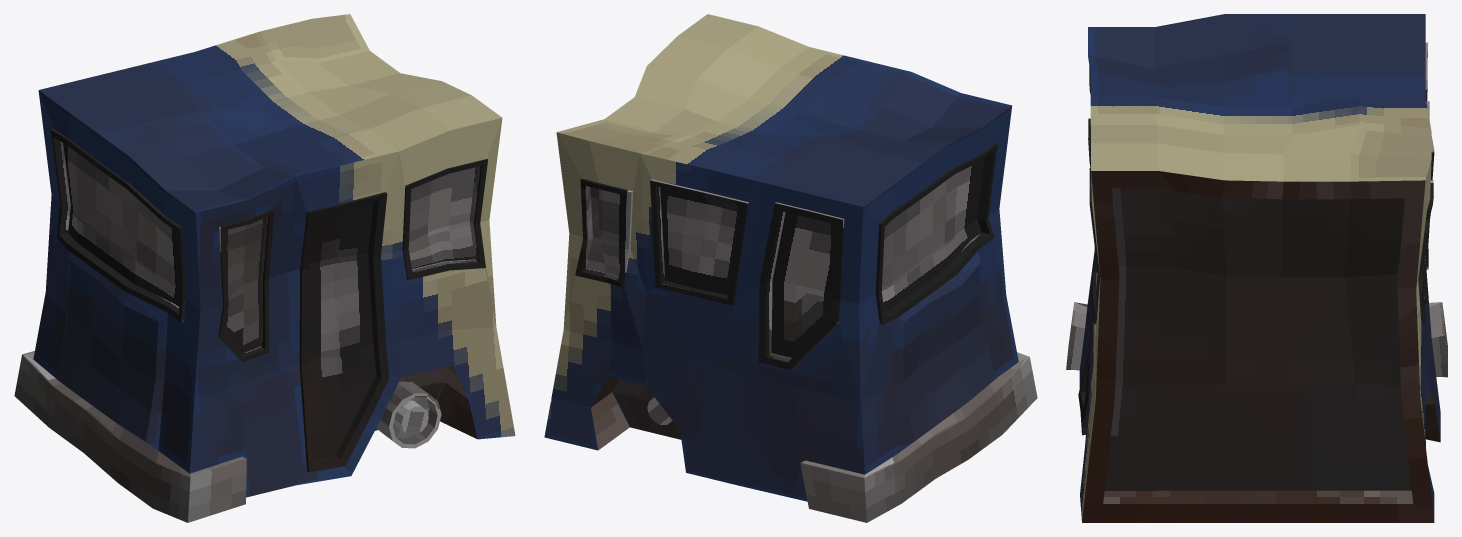
Rendered from BondiTrasero v2.glb.
3 renders of one model, left to right at view 1: azimuth 30°, elevation 25°; view 2: azimuth 150°, elevation 25°; view 3: azimuth 270°, elevation 25°, orthographic. The views are drawn at different scales.
Parts seen in each view (by area): view 1: BondiTras; view 2: BondiTras; view 3: BondiTras.
Boxes of the visible parts, x1,y1,x2,y2 form: BondiTras: [14, 14, 515, 522]; BondiTras: [544, 14, 1037, 522]; BondiTras: [1066, 14, 1447, 522].
Bounding box in the file's own units: 2.05 × 1.92 × 1.84.
1 material, 1 textured.
